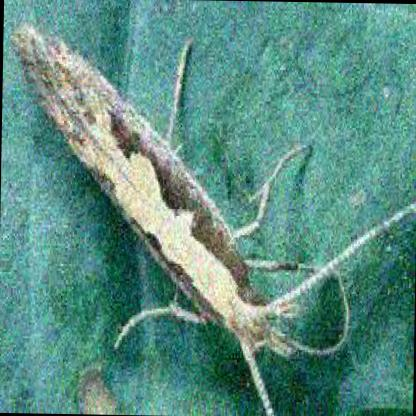plutella: (9, 14, 414, 414)
